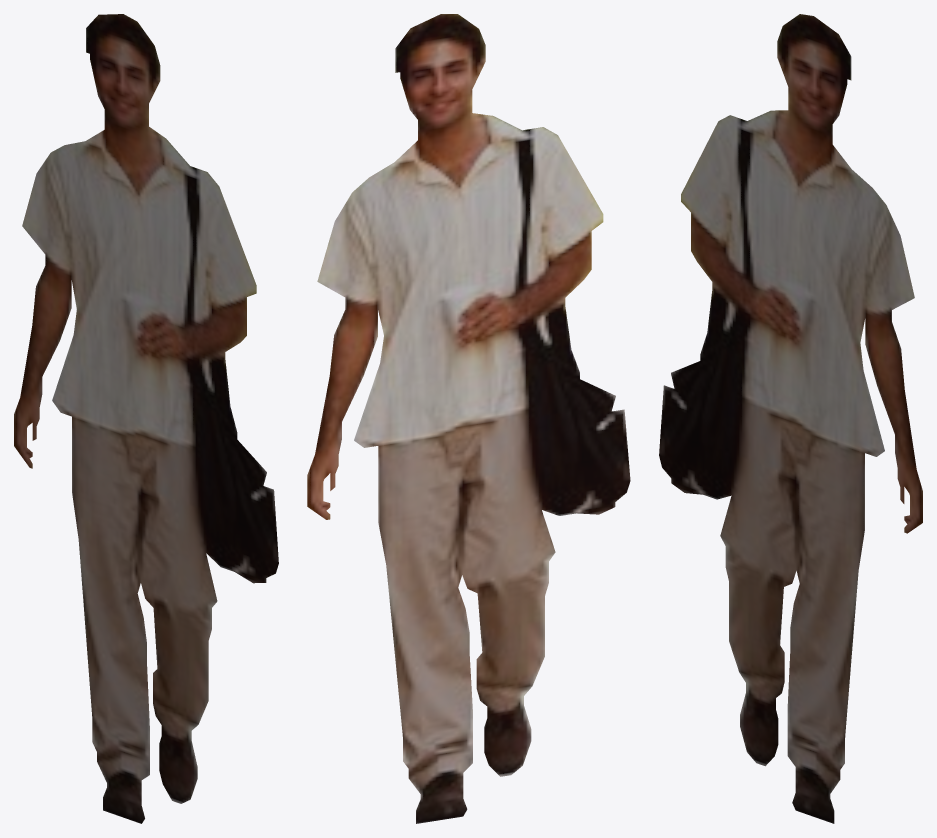
3 renders of one model, left to right at view 1: azimuth 90°, elevation 25°; view 2: azimuth 150°, elevation 25°; view 3: azimuth 270°, elevation 25°, orthographic.
Visible parts, largest first — view 1: MAN; view 2: MAN; view 3: MAN.
Boxes of the visible parts, x1,y1,x2,y2 form: MAN: (14,14,278,823); MAN: (307,14,630,823); MAN: (659,14,922,823).
Size of the model in its own units: 17.42 by 21.08 by 70.56.
1 material, 1 textured.
